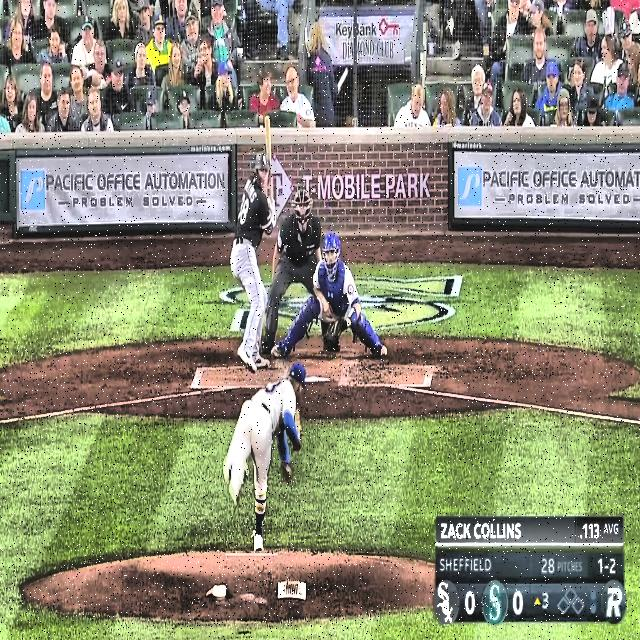baseball: (246, 274, 255, 288)
